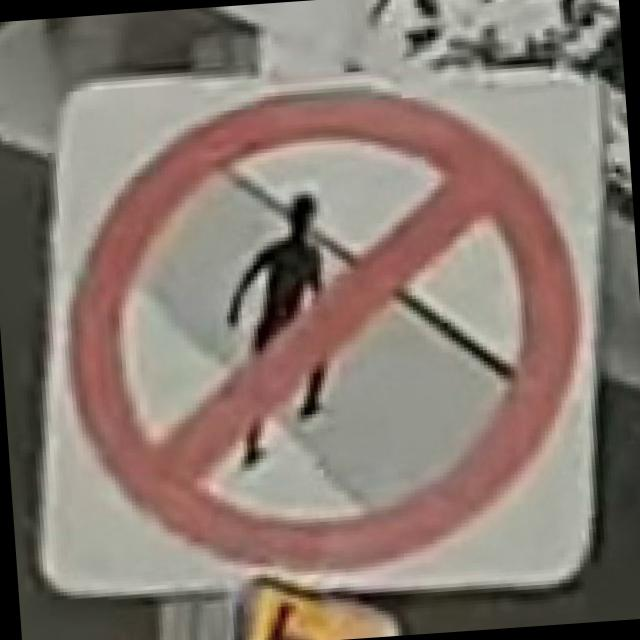nojaywalking_sign: (0, 35, 637, 623)
